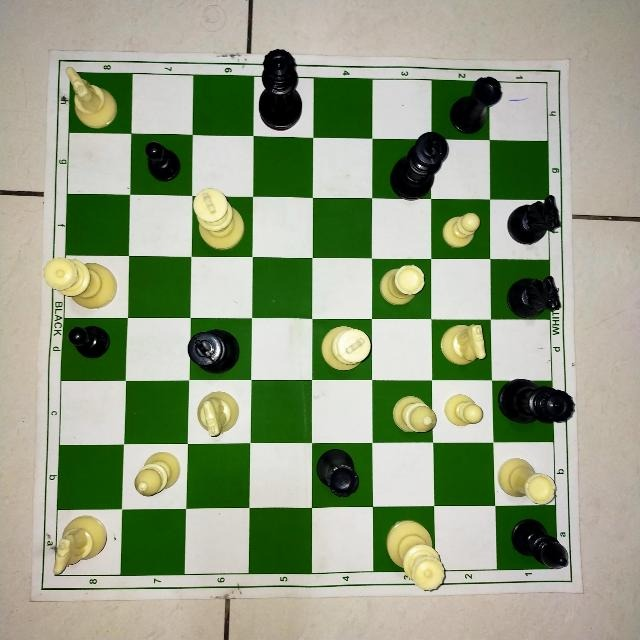black-bishop: (498, 513, 560, 568)
black-king: (191, 317, 251, 379), (375, 139, 431, 199)
black-knight: (494, 202, 546, 259), (498, 268, 548, 317)
black-pawn: (65, 326, 127, 380), (135, 137, 191, 193)
black-queen: (256, 79, 312, 141), (500, 387, 556, 443)
black-rook: (317, 448, 372, 510), (436, 83, 491, 138)
white-bishop: (121, 446, 186, 509), (378, 387, 431, 443)
white-king: (313, 322, 371, 381), (196, 205, 254, 258)
white-knight: (69, 73, 130, 133), (58, 511, 119, 571), (191, 392, 245, 444), (440, 328, 489, 382)
white-pawn: (441, 393, 493, 442), (440, 207, 482, 249)
white-queen: (66, 258, 130, 318), (386, 513, 435, 573)
white-rook: (373, 258, 429, 321), (502, 460, 558, 506)
